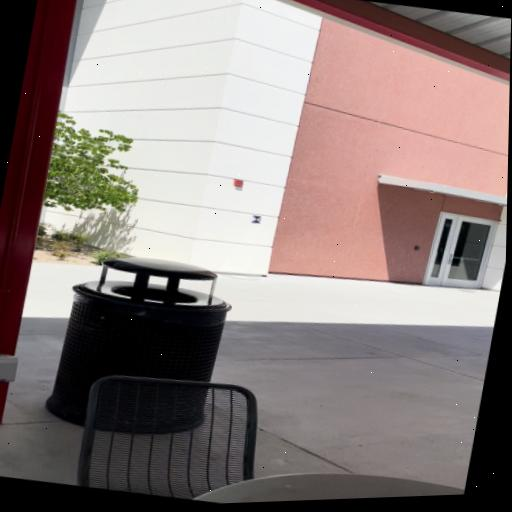target6: (250, 215, 262, 224)
